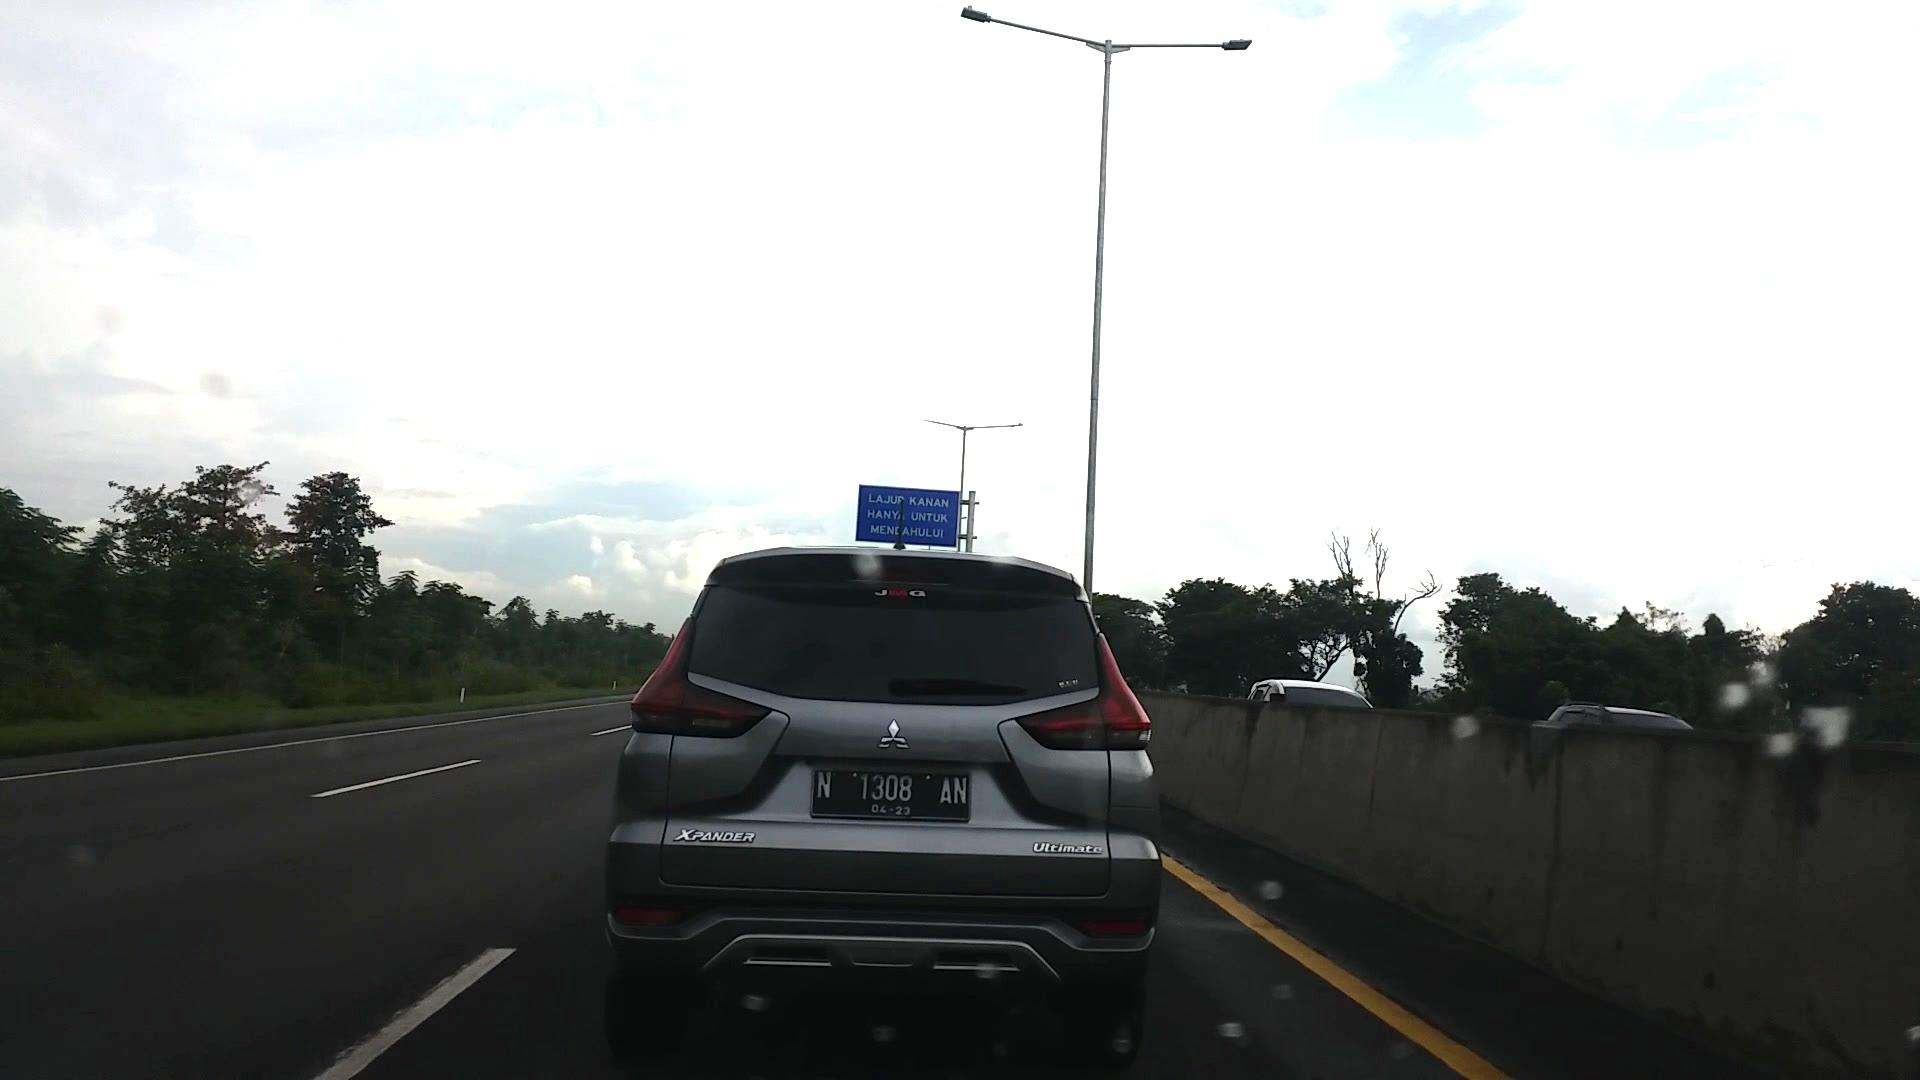plate_positive: (808, 767, 971, 822)
